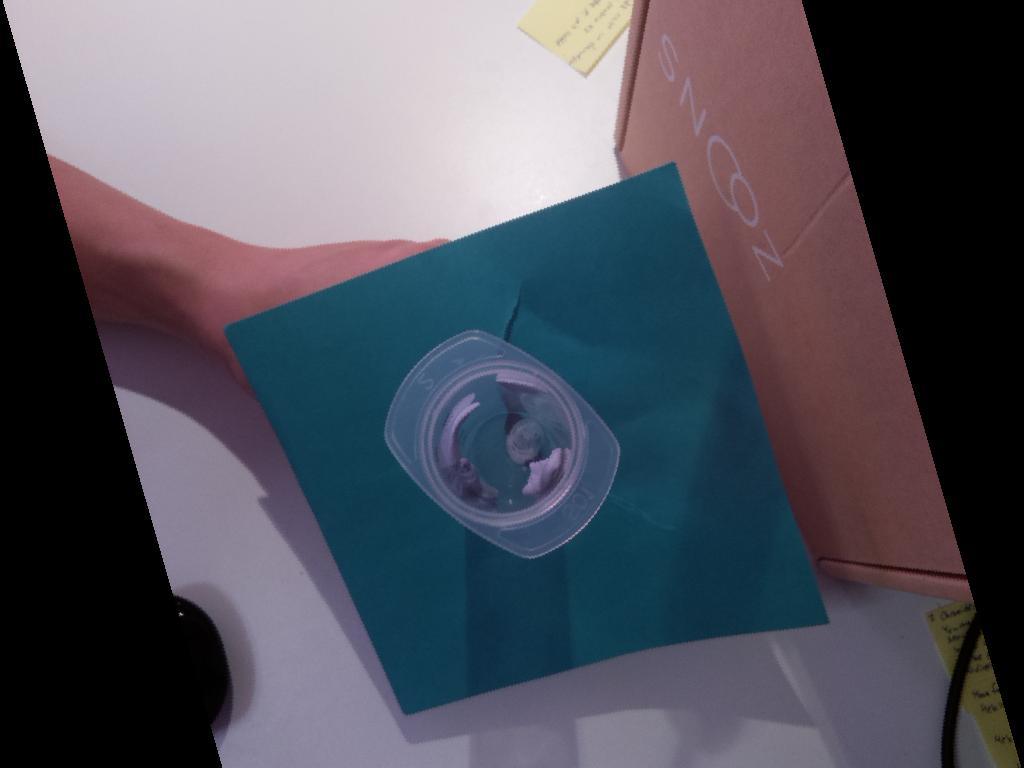dirty: (382, 329, 619, 560)
